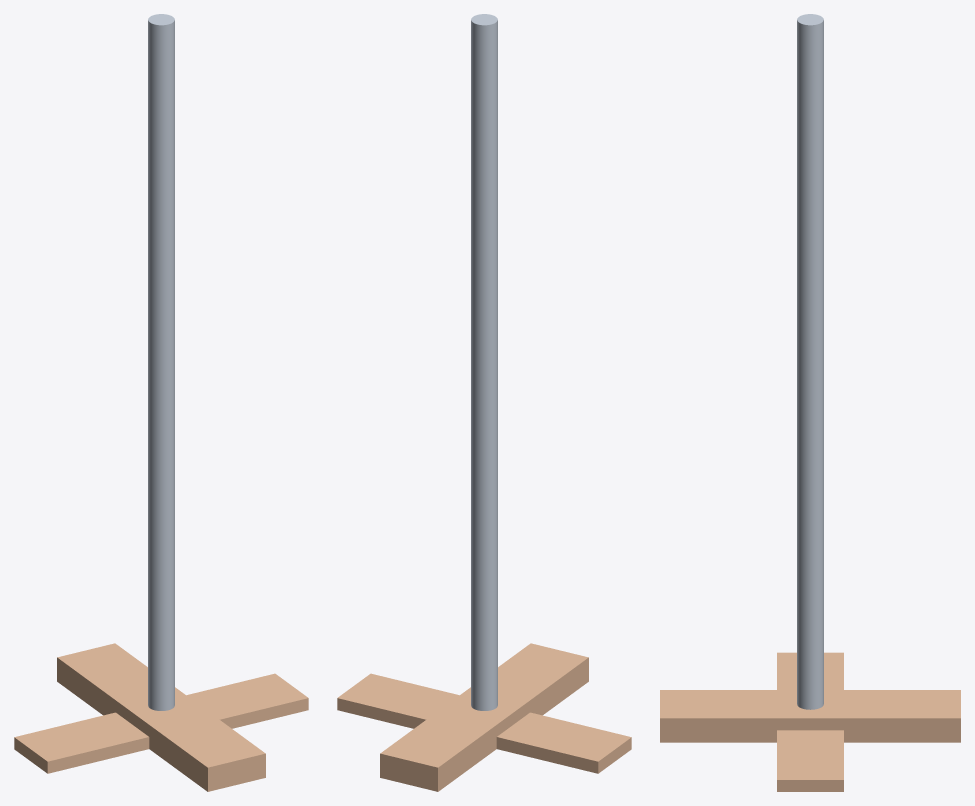
Rendered from festivusPole.glb.
The picture shows the model from 3 angles, left to right: view 1: azimuth 30°, elevation 25°; view 2: azimuth 150°, elevation 25°; view 3: azimuth 270°, elevation 25°; orthographic projection.
Parts seen in each view (by area): view 1: festivusPole(Clone); view 2: festivusPole(Clone); view 3: festivusPole(Clone).
Boxes of the visible parts, box(x1,y1,x2,y2) form: festivusPole(Clone): box(14, 14, 308, 791); festivusPole(Clone): box(337, 14, 631, 791); festivusPole(Clone): box(660, 14, 960, 791).
Size of the model in its own units: 0.45 by 1.17 by 0.45.
